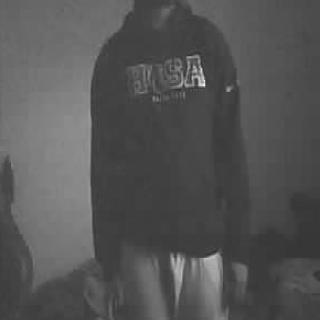HOSA Hoodie: (92, 10, 250, 256)
White Sweatpants: (122, 250, 228, 320)
